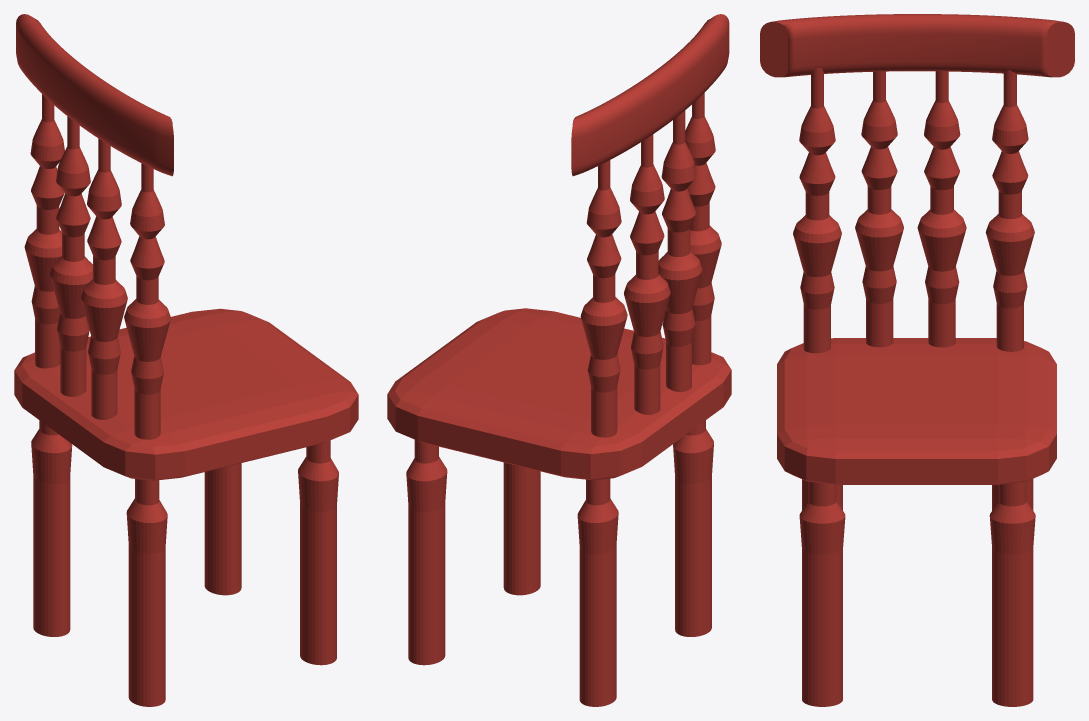
File: vanhatuolijam.fbx
The picture shows the model from 3 angles, left to right: view 1: azimuth 30°, elevation 25°; view 2: azimuth 150°, elevation 25°; view 3: azimuth 270°, elevation 25°; orthographic projection.
Parts seen in each view (by area): view 1: Cylinder.004; view 2: Cylinder.004; view 3: Cylinder.004.
Boxes of the visible parts, <box> form: Cylinder.004: <box>14,14,358,706</box>; Cylinder.004: <box>387,14,731,706</box>; Cylinder.004: <box>760,14,1074,706</box>.
Bounding box in the file's own units: 44.95 × 104 × 49.83.
